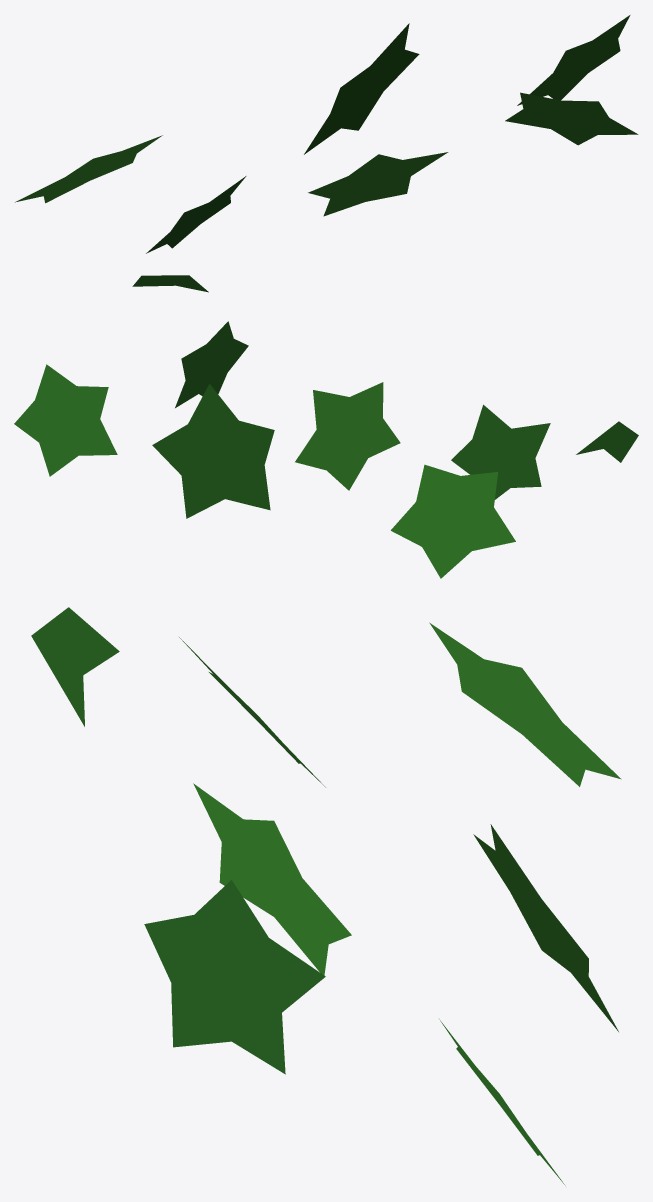
The picture shows the model from 3 angles, top to bottom: view 1: azimuth 30°, elevation 25°; view 2: azimuth 150°, elevation 25°; view 3: azimuth 270°, elevation 25°; orthographic projection. The views are drawn at different scales.
Visible parts, largest first — view 1: r26c3_l01; view 2: r26c3_l01; view 3: r26c3_l01.
Part boxes in pixels (left/top/right/bottom): r26c3_l01: left=15, top=15, right=638, bottom=292; r26c3_l01: left=14, top=321, right=638, bottom=578; r26c3_l01: left=31, top=607, right=621, bottom=1185.
Bounding box in the file's own units: 1.67 × 0.357 × 0.8411.
